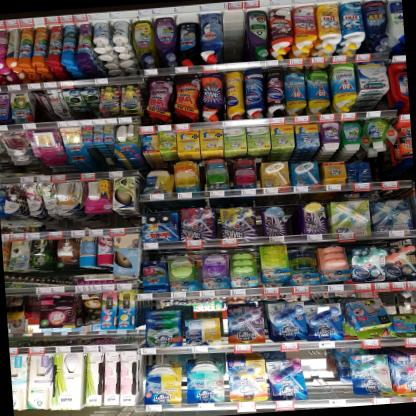empty_space: (224, 9, 250, 58)
